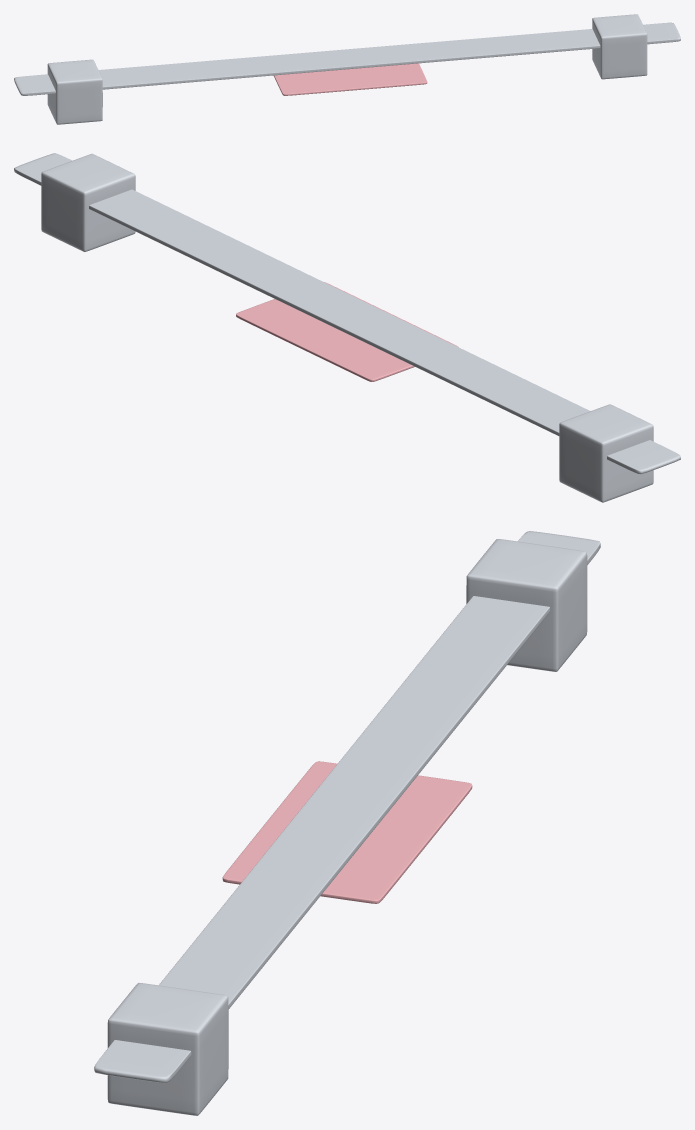
Rendered from PROP_SwingSet_v1.glb.
3 views of the same model, one above another, from view 1: azimuth 30°, elevation 25°; view 2: azimuth 150°, elevation 25°; view 3: azimuth 270°, elevation 25° (orthographic). The views are drawn at different scales.
Visible parts, largest first — view 1: PROP_SwingSet_v1; view 2: PROP_SwingSet_v1; view 3: PROP_SwingSet_v1.
Part boxes in pixels (x1,y1,x2,y2): PROP_SwingSet_v1: (14,14,680,124); PROP_SwingSet_v1: (14,153,680,502); PROP_SwingSet_v1: (94,531,600,1115).
Size of the model in its own units: 13.59 by 0.9877 by 5.31.
